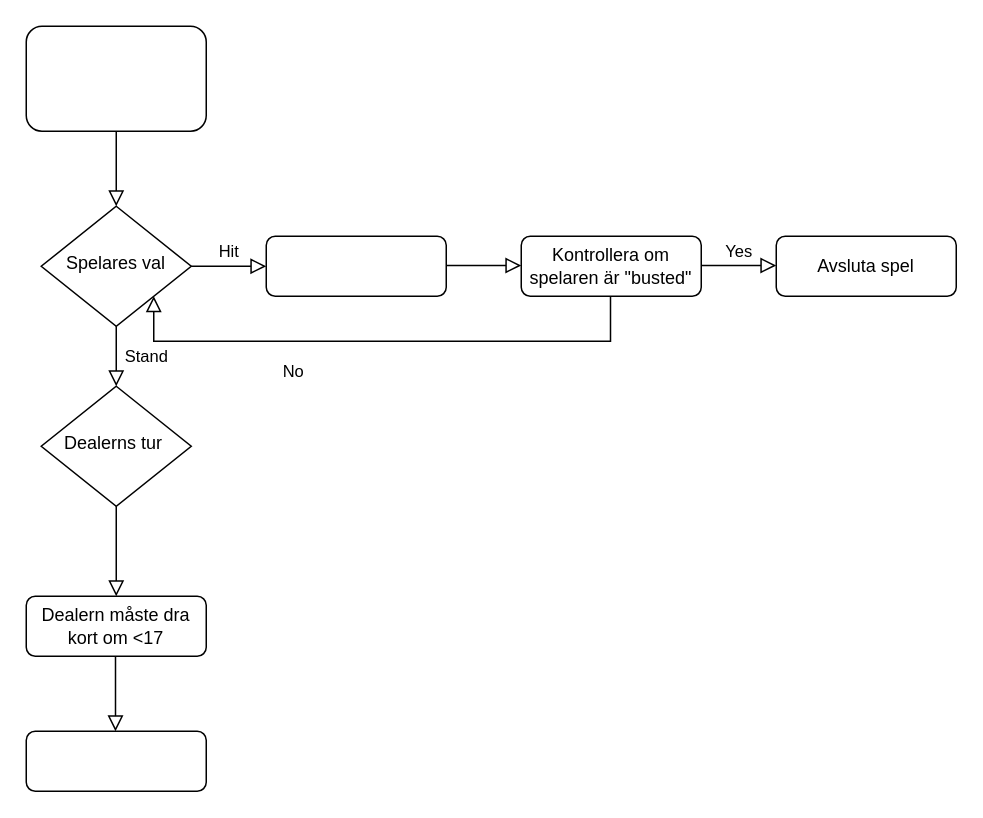
The diagram is 983 pixels wide and 818 high, and some of its shapes have lost their labels. Each missing label, with the box of its shape:
Dra kort för spelaren: (265, 235, 446, 296)
Räkna ut resultatet och visa det: (25, 730, 206, 791)
Starta, initera spel, dela ut kort, visa händer: (25, 25, 206, 131)
